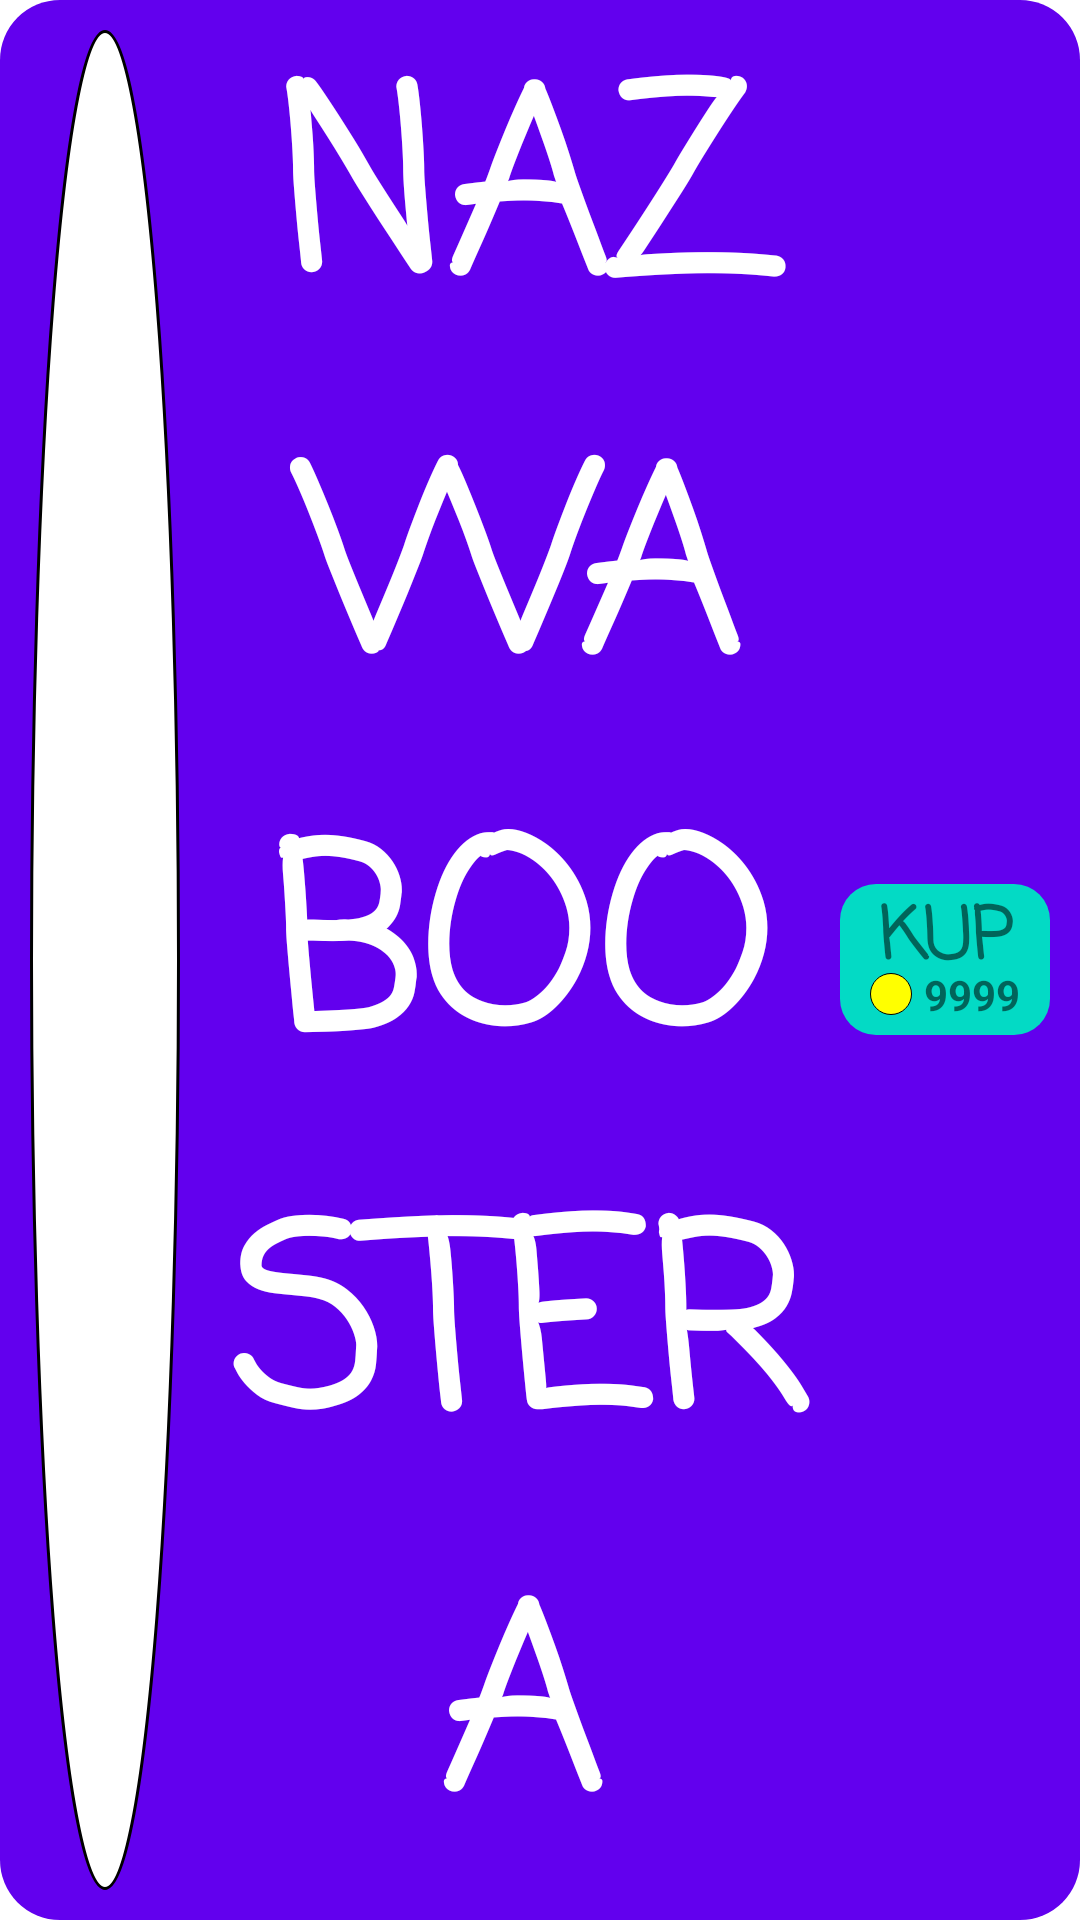

Icon bounding boxes for this 1080px×1920px phone screenshot, format [left=x1, top=y1, right=x2, bottom=y2]:
coin: [left=870, top=973, right=912, bottom=1015]
